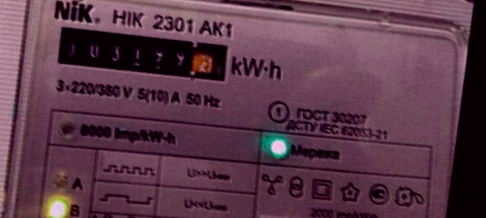0: (86, 42, 100, 63), (63, 40, 75, 59)
1: (130, 45, 142, 64)
3: (108, 45, 120, 66)
6: (195, 61, 207, 77)
9: (151, 47, 164, 68), (173, 52, 185, 71)
screen: (48, 18, 235, 95)
